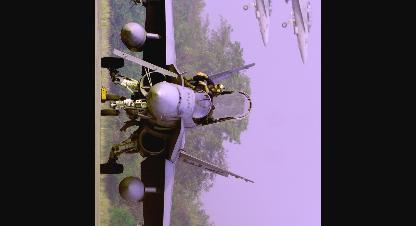F15: (100, 0, 256, 225), (271, 0, 314, 66), (234, 0, 275, 47)
